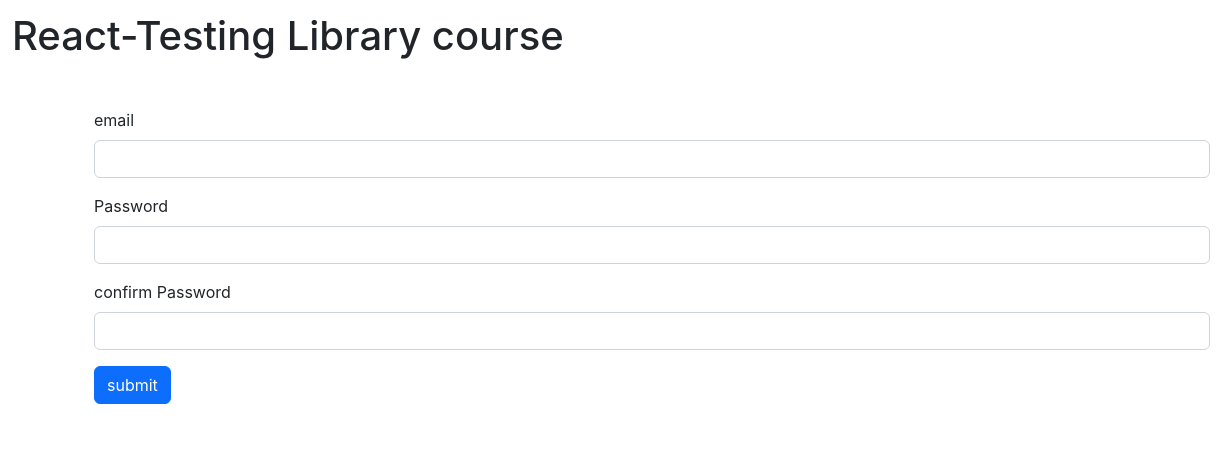
it: Form › Error Handling › should show password error if password is less than 5 characters
In the field labelled "email": [652, 159] box [94,140,1210,178], type "odofing@gmail.com"
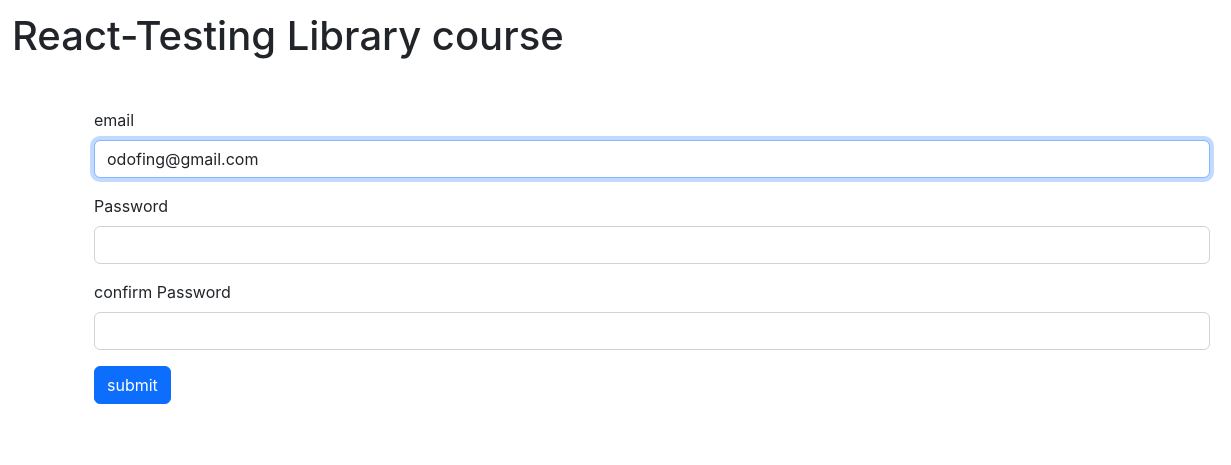
Check: the text "the password you entered should contain 5 or more characters" is not shown
In the password field labelled "Password": [652, 245] box [94,226,1210,264], type "123"
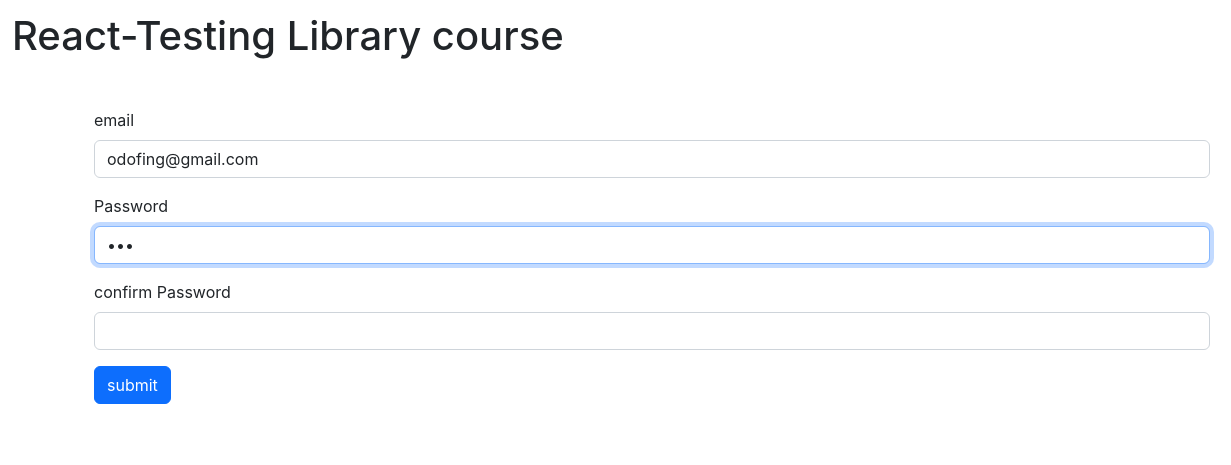
Click the button "submit": [132, 385] box [94,366,171,404]
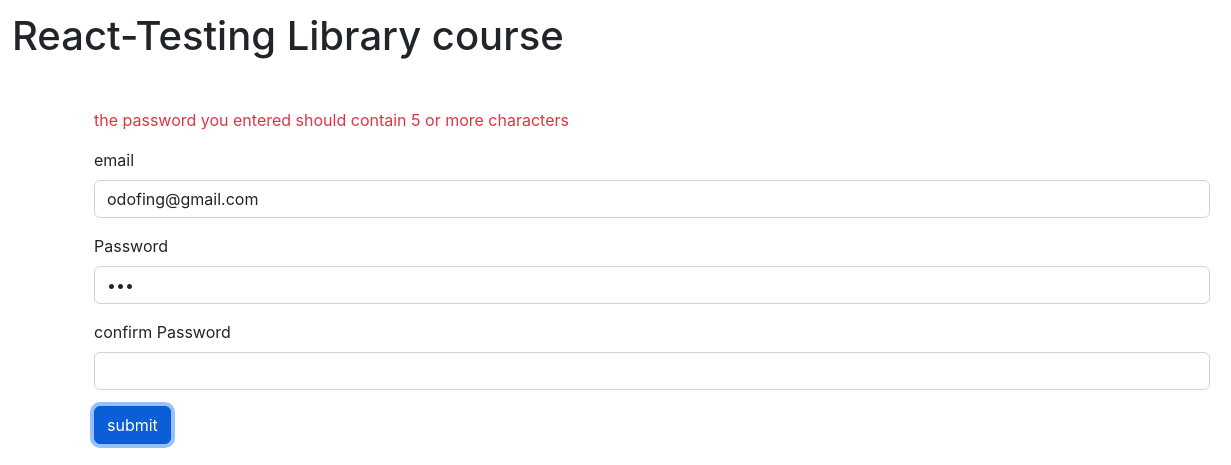
Check: the text "the password you entered should contain 5 or more characters" is shown, box [94,110,569,130]
